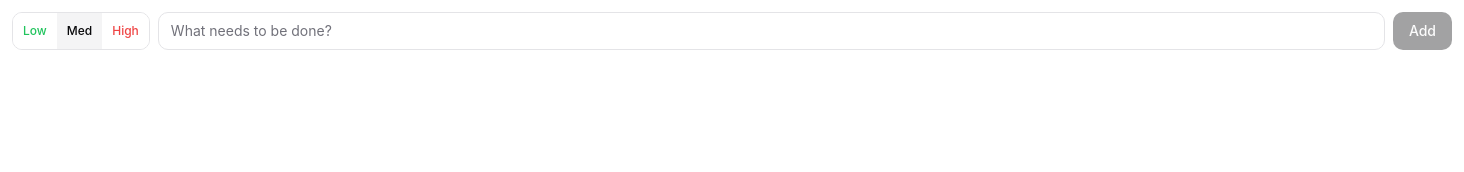
Test case: TodoInput › Add button is enabled after typing text
In the field with placeholder "What needs to be done?": (771, 31) top-left (158, 12), bottom-right (1385, 50), type "Buy milk"
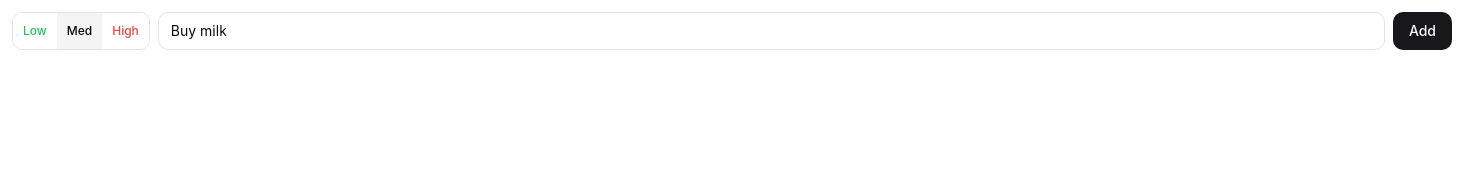
Check: the button with aria-label "Add todo" is enabled, box top-left (1393, 12), bottom-right (1452, 50)
